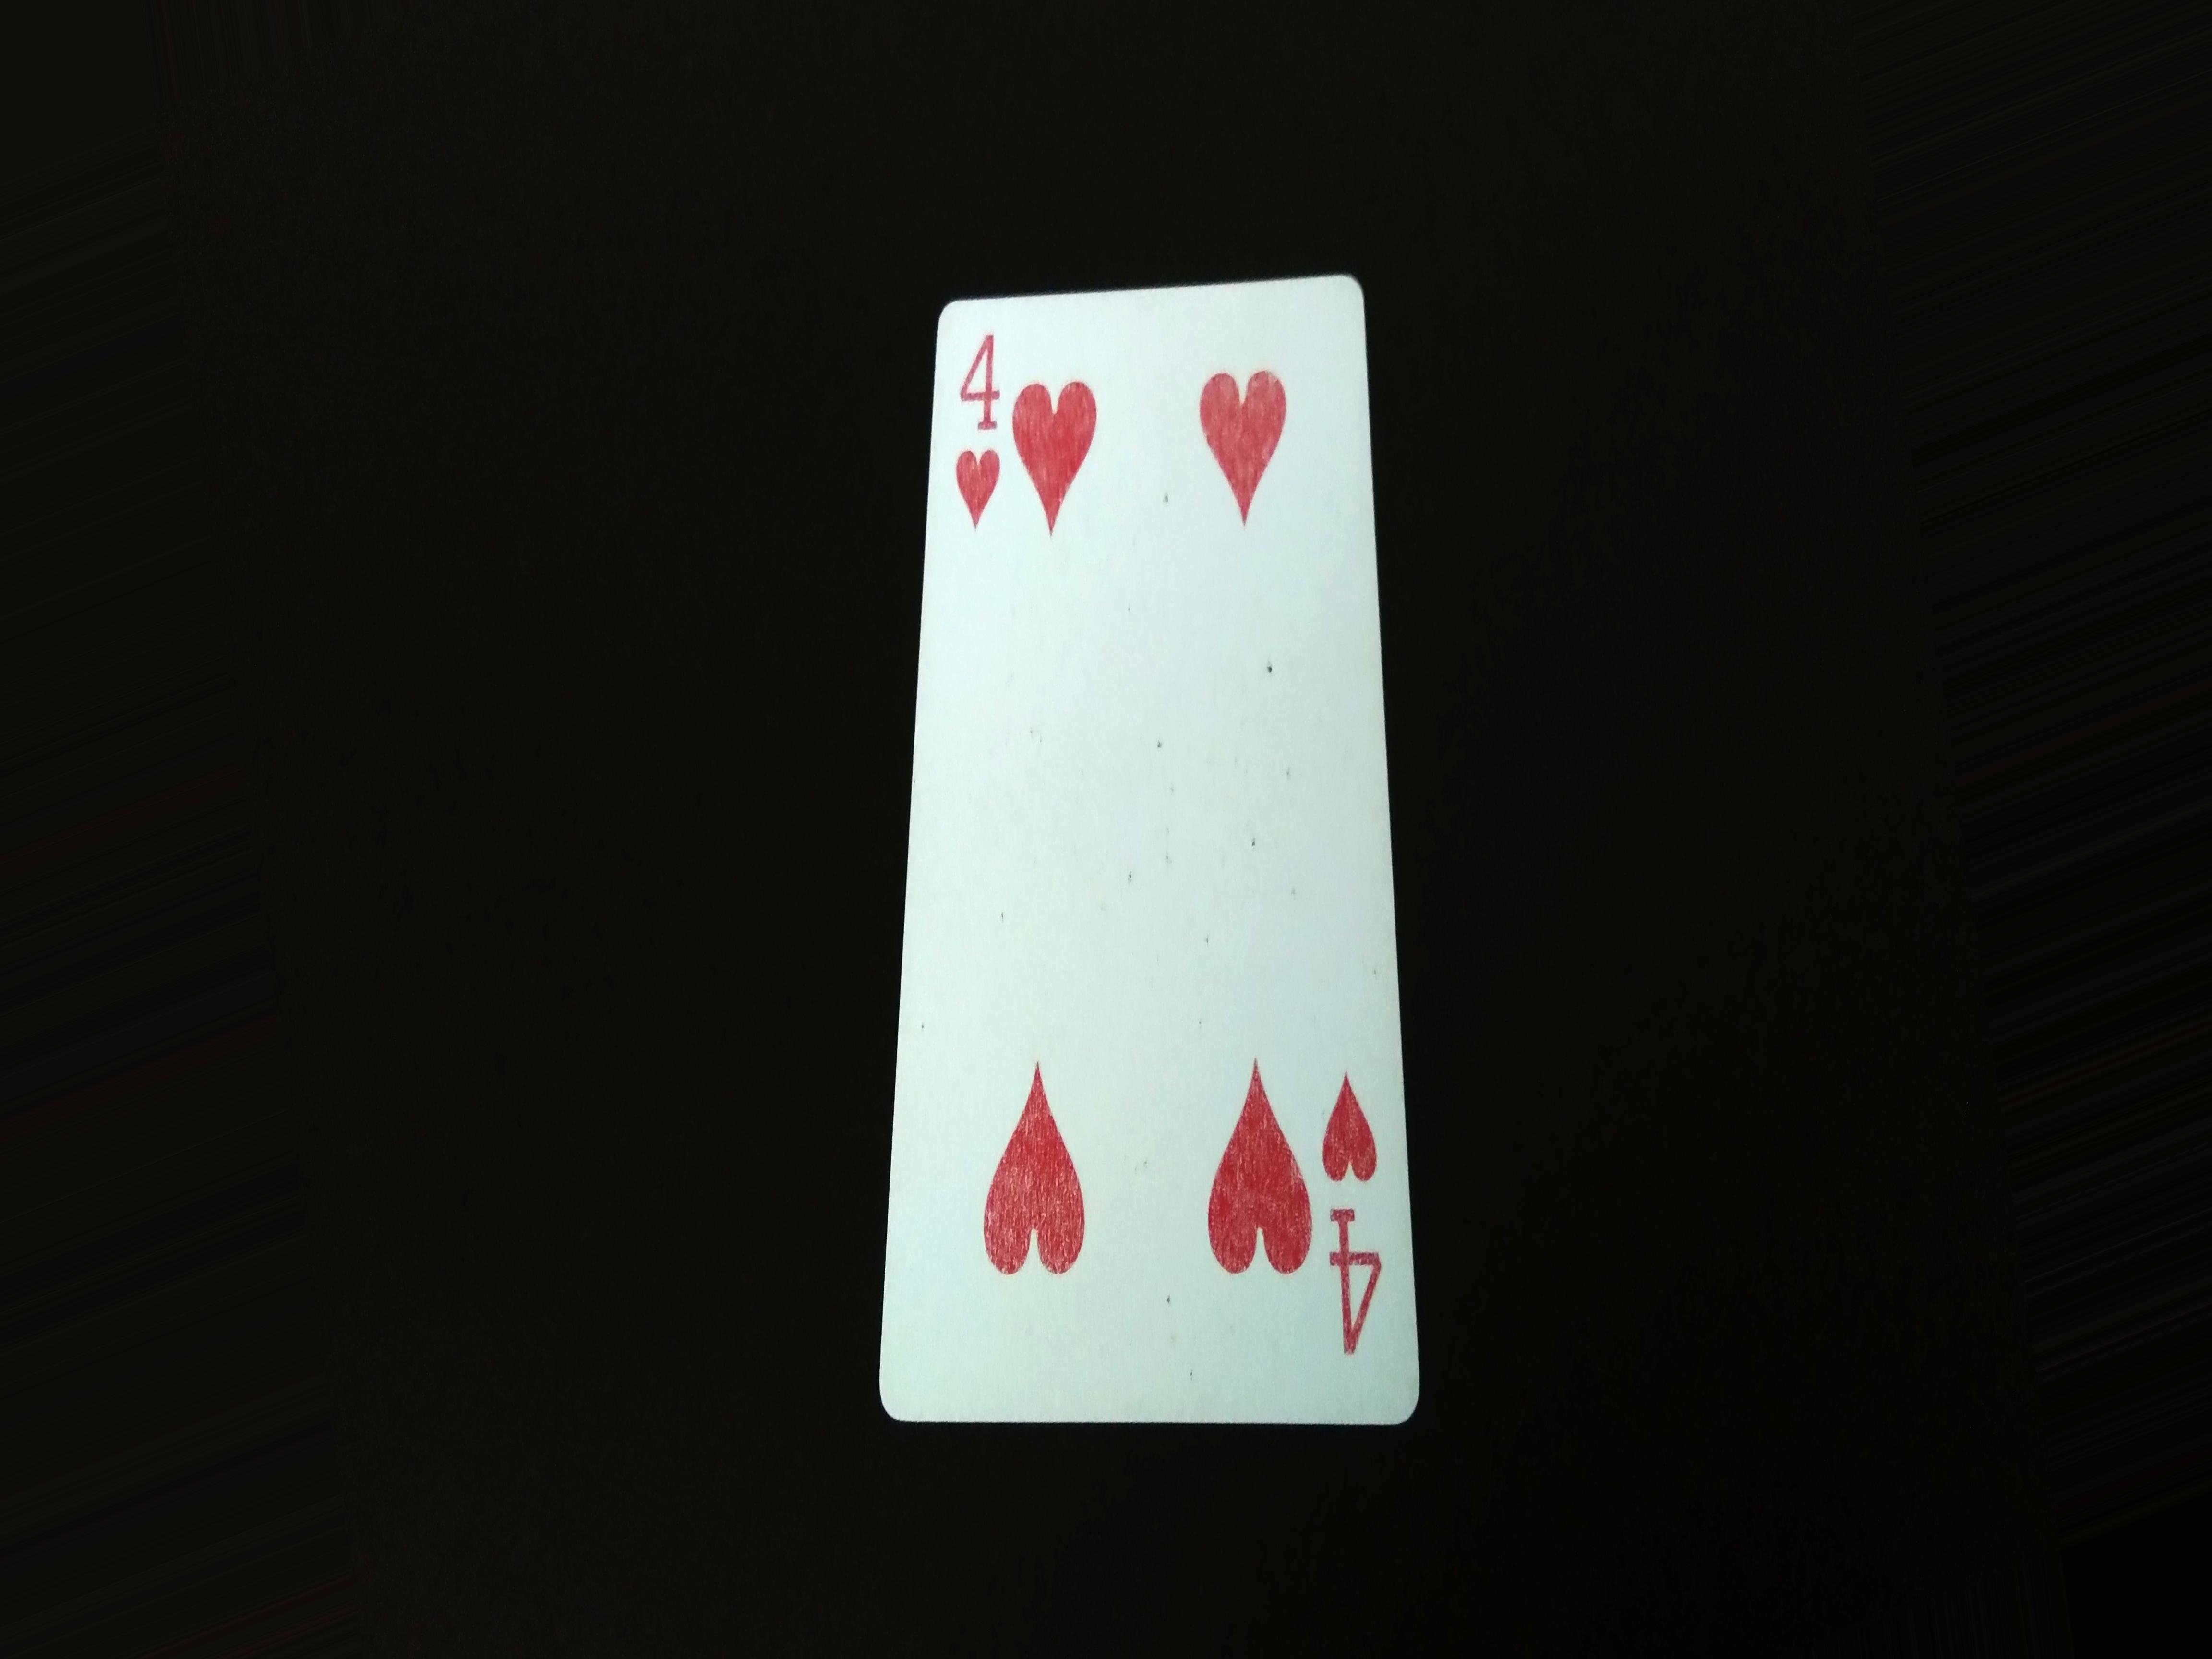4H: (1317, 1058, 1399, 1359)
